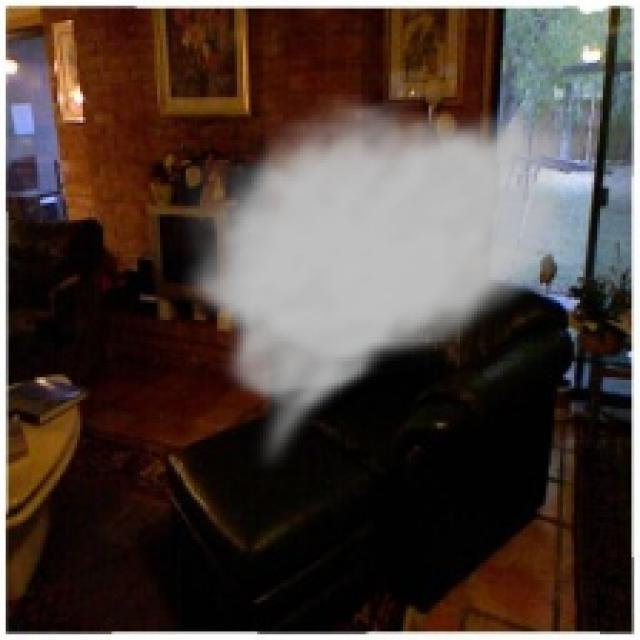smoke: (174, 94, 600, 474)
